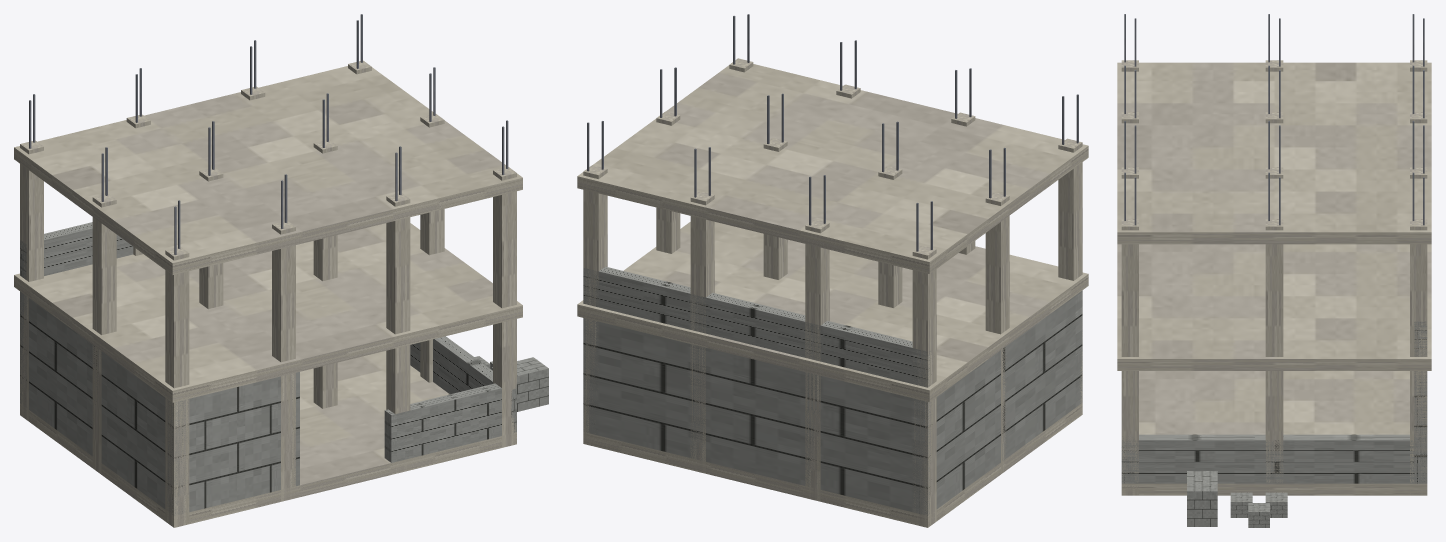
File: unfinished-sky.glb
3 renders of one model, left to right at view 1: azimuth 30°, elevation 25°; view 2: azimuth 150°, elevation 25°; view 3: azimuth 270°, elevation 25°, orthographic.
Parts seen in each view (by area): view 1: unfinished-sky; view 2: unfinished-sky; view 3: unfinished-sky.
Part boxes in pixels (x1,y1,x2,y2): unfinished-sky: [14, 14, 548, 527]; unfinished-sky: [577, 14, 1088, 527]; unfinished-sky: [1117, 14, 1431, 527].
Bounding box in the file's own units: 10.85 × 8 × 7.2.
Materials: 1 (1 with a texture image).
